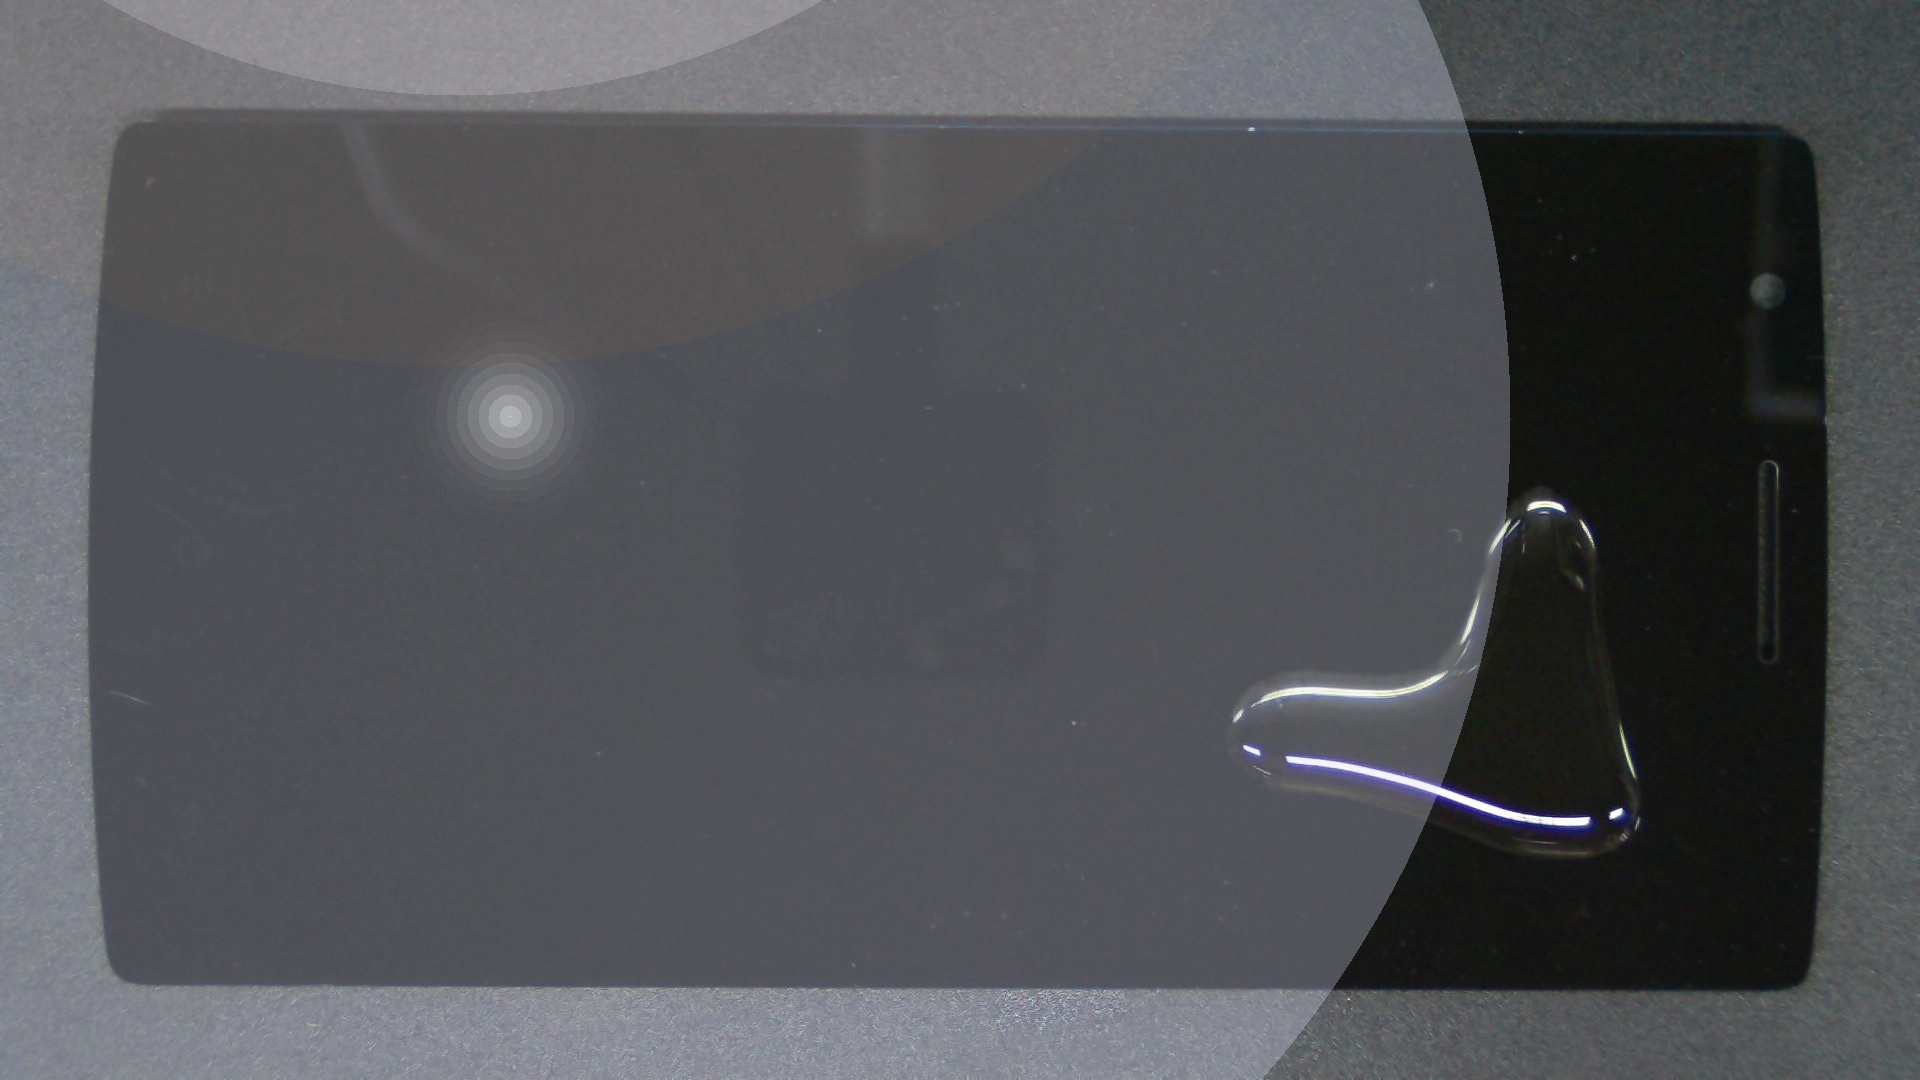oil: (771, 243, 1920, 731)
